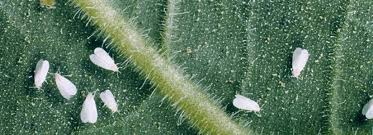Tobacco Whitefly: (81, 40, 126, 85), (285, 47, 327, 95), (223, 78, 258, 126), (25, 51, 47, 95), (81, 91, 101, 126)
